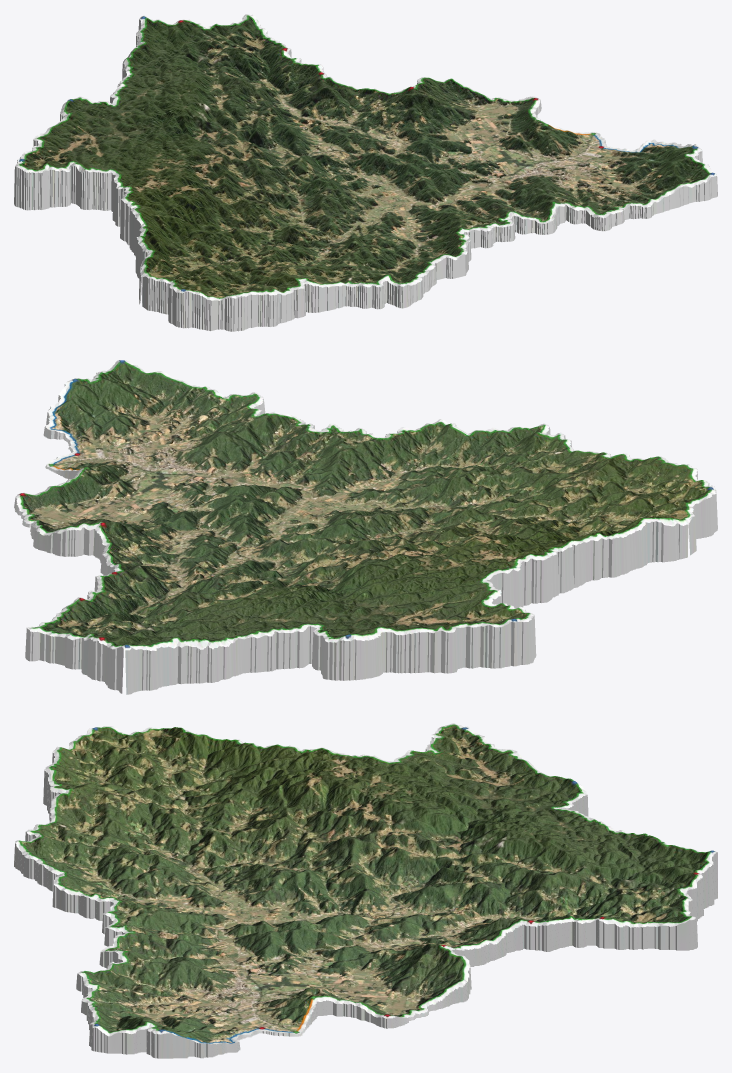
3 renders of one model, top to bottom at view 1: azimuth 30°, elevation 25°; view 2: azimuth 150°, elevation 25°; view 3: azimuth 270°, elevation 25°, orthographic. The views are drawn at different scales.
Bounding box in the file's own units: 1 × 0.0718 × 1.
Materials: 1 (1 with a texture image).
